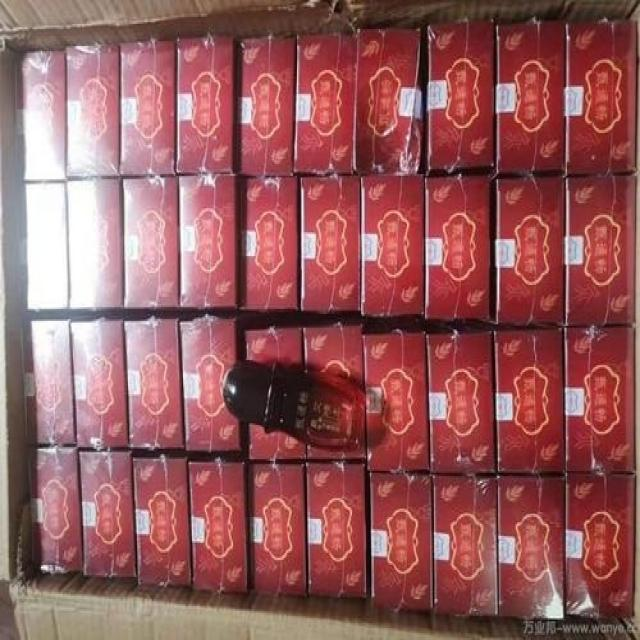box: (415, 321, 495, 474), (563, 19, 637, 176), (492, 326, 566, 473), (495, 20, 564, 176), (492, 176, 564, 324), (564, 326, 636, 474), (425, 20, 494, 174), (356, 29, 428, 174), (566, 176, 635, 324), (362, 317, 429, 469), (566, 474, 635, 618), (498, 476, 566, 621), (425, 176, 492, 319), (180, 312, 247, 451), (433, 476, 498, 616), (361, 174, 425, 314), (294, 32, 357, 174), (175, 36, 236, 174), (300, 176, 361, 312), (237, 36, 296, 176), (238, 176, 300, 309), (124, 311, 184, 447), (370, 473, 431, 606), (189, 454, 247, 592), (70, 312, 129, 447), (306, 463, 365, 596), (179, 176, 238, 307), (248, 463, 307, 594), (120, 176, 178, 309), (120, 41, 175, 176), (133, 457, 191, 585), (68, 177, 123, 311), (81, 451, 137, 577), (67, 44, 120, 177), (14, 181, 68, 311), (22, 321, 77, 444), (28, 447, 82, 570), (15, 51, 65, 181), (303, 314, 364, 391), (246, 314, 301, 365), (250, 425, 305, 459), (308, 435, 365, 459)
